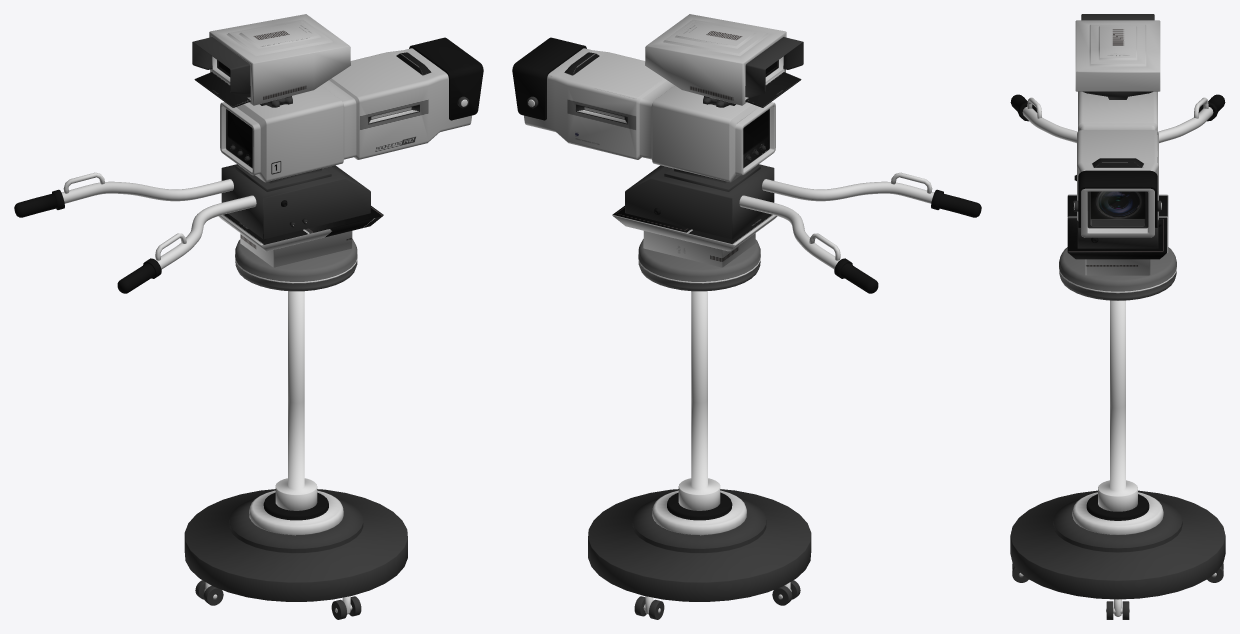
The model's file is Broadcast_Camera.fbx.
3 renders of one model, left to right at view 1: azimuth 30°, elevation 25°; view 2: azimuth 150°, elevation 25°; view 3: azimuth 270°, elevation 25°, orthographic. The views are drawn at different scales.
Visible parts, largest first — view 1: Cube.002, Cylinder, Cube.003, Cube.001, Cylinder.002, BezierCurve, Cube, Cylinder.003, Cube.006, Cylinder.001, Cube.005, BezierCurve.001; view 2: Cube.002, Cylinder, Cube.003, Cube.001, Cylinder.002, BezierCurve, Cube, Cylinder.003, Cube.006, Cylinder.001, Cube.005, BezierCurve.001; view 3: Cylinder, Cube.002, Cube.003, Cylinder.002, Cylinder.003, Cube, Cylinder.001, Cube.006, BezierCurve, Cube.001, BezierCurve.001, Cube.005 (+3 smaller).
Boxes of the visible parts, left/top/right/bottom form: Cube.002: left=220, top=48, right=471, bottom=182; Cylinder: left=184, top=489, right=407, bottom=601; Cube.003: left=194, top=14, right=350, bottom=107; Cube.001: left=221, top=164, right=370, bottom=239; Cylinder.002: left=275, top=291, right=317, bottom=510; BezierCurve: left=61, top=172, right=256, bottom=269; Cube: left=218, top=206, right=383, bottom=267; Cylinder.003: left=235, top=239, right=357, bottom=291; Cube.006: left=409, top=37, right=483, bottom=120; Cylinder.001: left=249, top=490, right=343, bottom=535; Cube.005: left=192, top=37, right=250, bottom=97; BezierCurve.001: left=14, top=189, right=161, bottom=293; Cube.002: left=524, top=48, right=775, bottom=182; Cylinder: left=588, top=489, right=811, bottom=601; Cube.003: left=645, top=14, right=801, bottom=107; Cube.001: left=625, top=164, right=774, bottom=239; Cylinder.002: left=678, top=291, right=720, bottom=510; BezierCurve: left=739, top=172, right=934, bottom=269; Cube: left=612, top=206, right=777, bottom=267; Cylinder.003: left=638, top=239, right=760, bottom=291; Cube.006: left=512, top=37, right=586, bottom=120; Cylinder.001: left=652, top=490, right=746, bottom=535; Cube.005: left=745, top=37, right=803, bottom=97; BezierCurve.001: left=834, top=189, right=981, bottom=293; Cylinder: left=1010, top=490, right=1225, bottom=599; Cube.002: left=1077, top=91, right=1158, bottom=237; Cube.003: left=1075, top=20, right=1160, bottom=91; Cylinder.002: left=1098, top=300, right=1137, bottom=511; Cylinder.003: left=1059, top=247, right=1176, bottom=300; Cube: left=1067, top=194, right=1168, bottom=275; Cylinder.001: left=1072, top=492, right=1163, bottom=534; Cube.006: left=1078, top=170, right=1157, bottom=227; BezierCurve: left=1022, top=97, right=1213, bottom=143; Cube.001: left=1077, top=221, right=1158, bottom=248; BezierCurve.001: left=1010, top=94, right=1225, bottom=121; Cube.005: left=1081, top=14, right=1154, bottom=20.
Size of the model in its own units: 130 by 173 by 63.46.
Materials: 12 (3 with a texture image).
